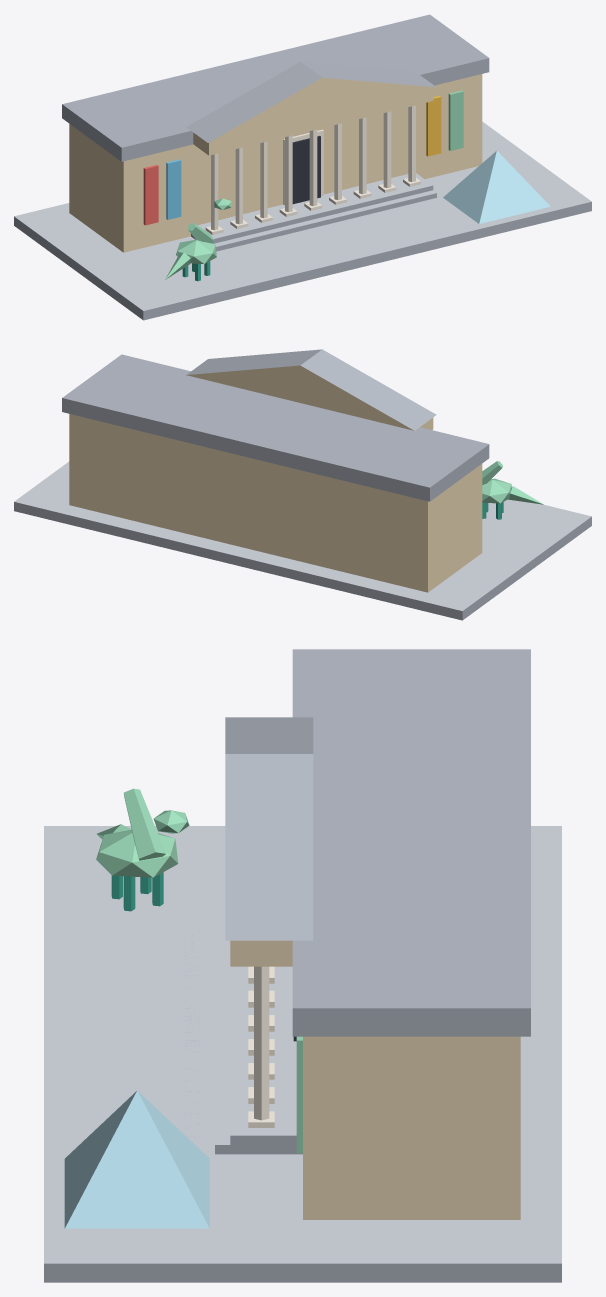
File: public_museum.glb
3 views of the same model, one above another, from view 1: azimuth 30°, elevation 25°; view 2: azimuth 150°, elevation 25°; view 3: azimuth 270°, elevation 25° (orthographic). The views are drawn at different scales.
Visible parts, largest first — view 1: public_museum; view 2: public_museum; view 3: public_museum.
Part boxes in pixels (left/top/right/bottom): public_museum: left=14, top=14, right=591, bottom=320; public_museum: left=14, top=349, right=591, bottom=620; public_museum: left=44, top=649, right=561, bottom=1282.
Size of the model in its own units: 2 by 0.66 by 1.
